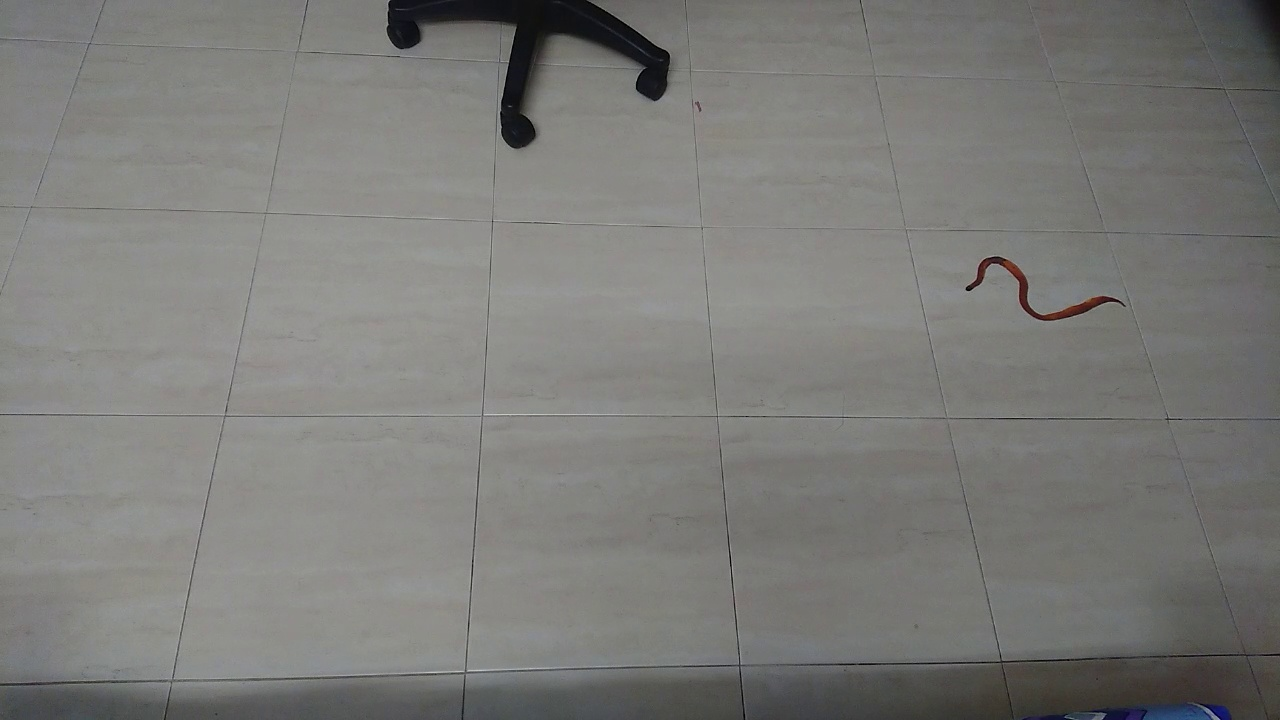snake: (940, 239, 1144, 332)
